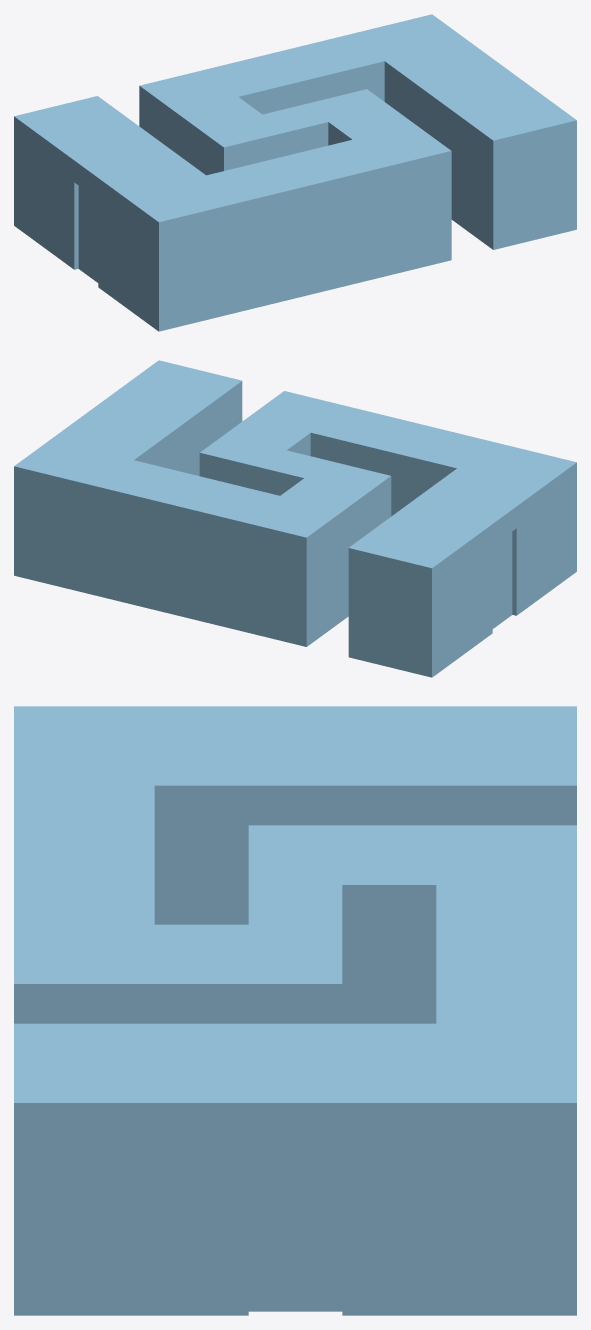
File: 10x6_inner.dae
3 views of the same model, one above another, from view 1: azimuth 30°, elevation 25°; view 2: azimuth 150°, elevation 25°; view 3: azimuth 270°, elevation 25° (orthographic). The views are drawn at different scales.
Visible parts, largest first — view 1: 5d15c6775e8299175720e9b9; view 2: 5d15c6775e8299175720e9b9; view 3: 5d15c6775e8299175720e9b9.
Boxes of the visible parts, x1=… form: 5d15c6775e8299175720e9b9: x1=14, y1=14, x2=576, y2=331; 5d15c6775e8299175720e9b9: x1=14, y1=360, x2=576, y2=677; 5d15c6775e8299175720e9b9: x1=14, y1=706, x2=576, y2=1315.
Size of the model in its own units: 10 by 6 by 2.5.
